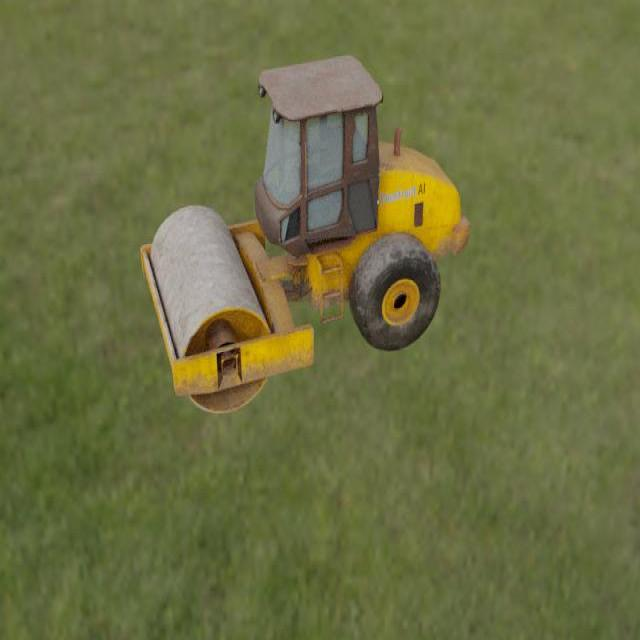Roller: (140, 55, 471, 413)
